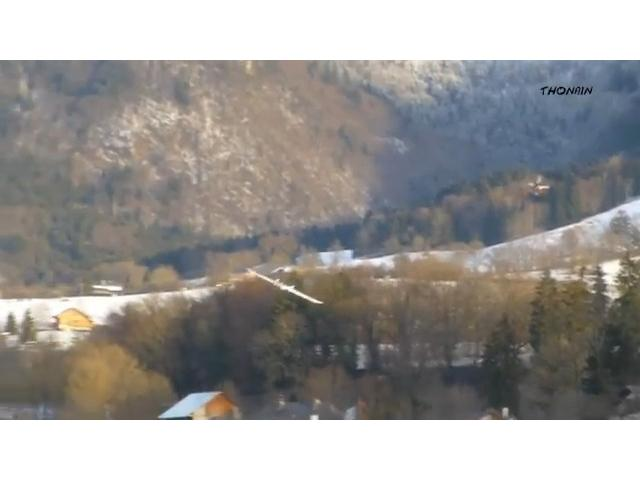Anti-Drone: (248, 270, 322, 304)
